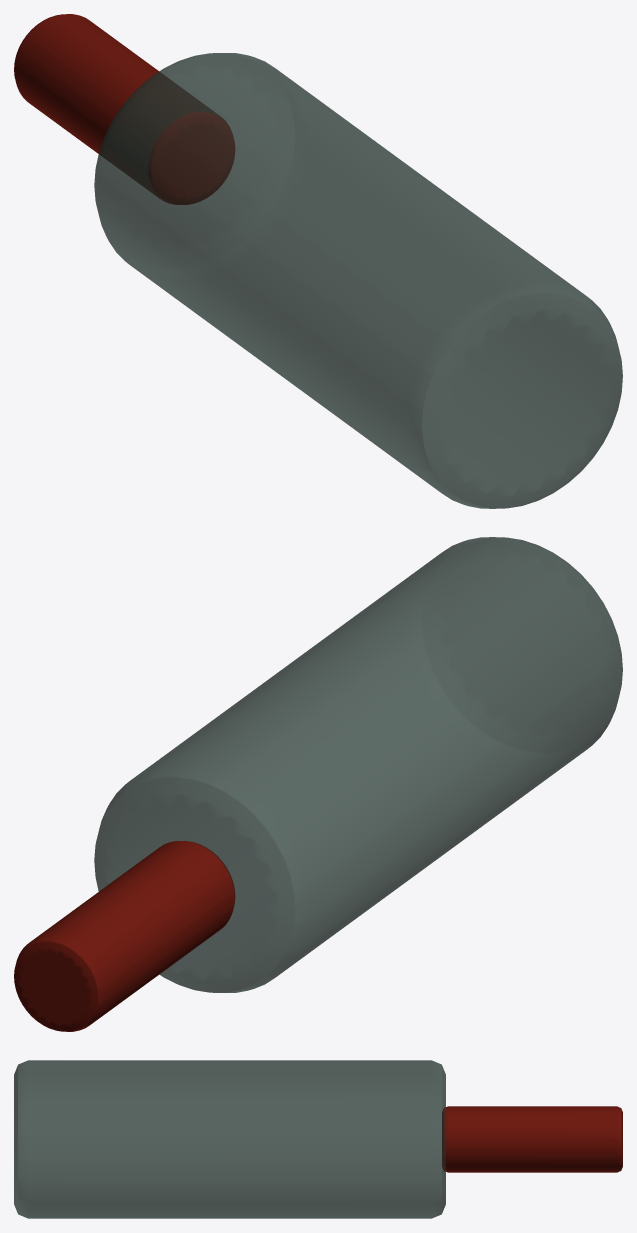
The model's file is wineBottle.fbx.
3 views of the same model, one above another, from view 1: azimuth 30°, elevation 25°; view 2: azimuth 150°, elevation 25°; view 3: azimuth 270°, elevation 25° (orthographic). The views are drawn at different scales.
Visible parts, largest first — view 1: polySurface9; view 2: polySurface9; view 3: polySurface9.
Boxes of the visible parts, left/top/right/bottom form: polySurface9: left=14, top=14, right=622, bottom=508; polySurface9: left=14, top=537, right=622, bottom=1031; polySurface9: left=14, top=1060, right=622, bottom=1218.
Size of the model in its own units: 1.65 by 6.32 by 1.65.
